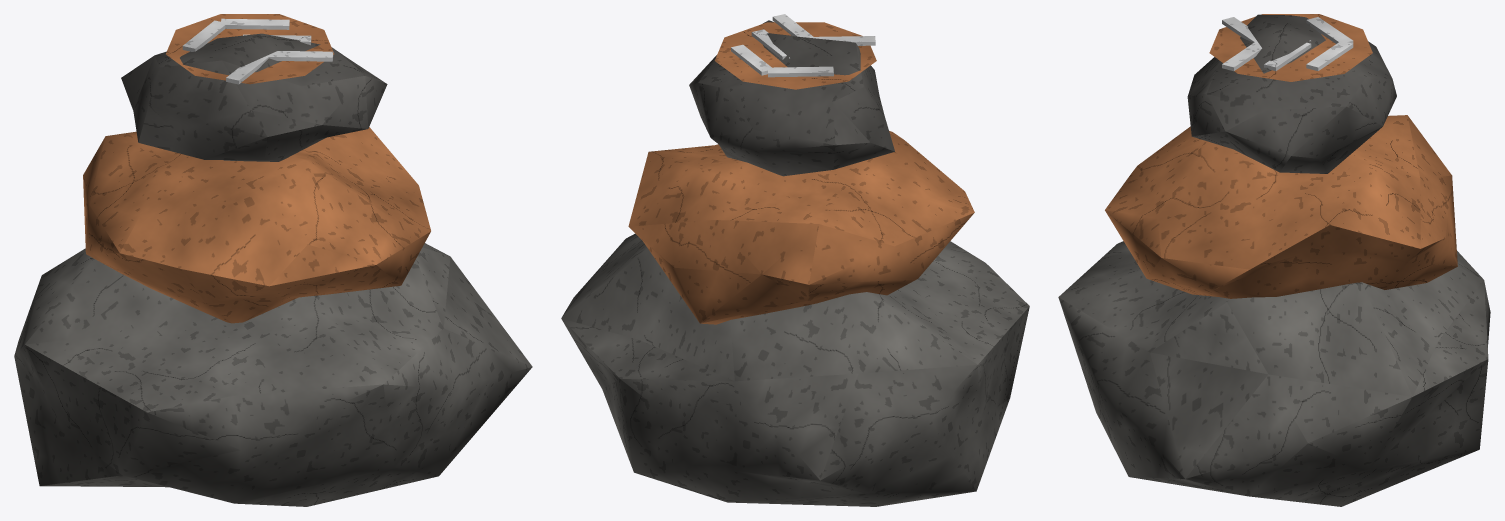
The model's file is marker_colonie.glb.
The picture shows the model from 3 angles, left to right: view 1: azimuth 30°, elevation 25°; view 2: azimuth 150°, elevation 25°; view 3: azimuth 270°, elevation 25°; orthographic projection. The views are drawn at different scales.
Visible parts, largest first — view 1: pebble_0, pebble_2, pebble_4, marker_colonie, group_7; view 2: pebble_0, pebble_2, pebble_4, marker_colonie, group_7; view 3: pebble_0, pebble_2, pebble_4, marker_colonie, group_7.
Part boxes in pixels (bbox=[...]): pebble_0: bbox=[14, 243, 532, 506]; pebble_2: bbox=[83, 127, 430, 323]; pebble_4: bbox=[121, 33, 387, 161]; marker_colonie: bbox=[166, 14, 334, 84]; group_7: bbox=[182, 18, 333, 84]; pebble_0: bbox=[561, 233, 1029, 506]; pebble_2: bbox=[628, 131, 974, 324]; pebble_4: bbox=[689, 20, 894, 176]; marker_colonie: bbox=[714, 22, 876, 89]; group_7: bbox=[731, 14, 875, 77]; pebble_0: bbox=[1058, 241, 1490, 506]; pebble_2: bbox=[1105, 115, 1457, 298]; pebble_4: bbox=[1187, 14, 1396, 173]; marker_colonie: bbox=[1209, 14, 1372, 81]; group_7: bbox=[1222, 17, 1353, 71].
Bounding box in the file's own units: 7.63 × 7.49 × 6.76.
5 materials, 5 textured.
